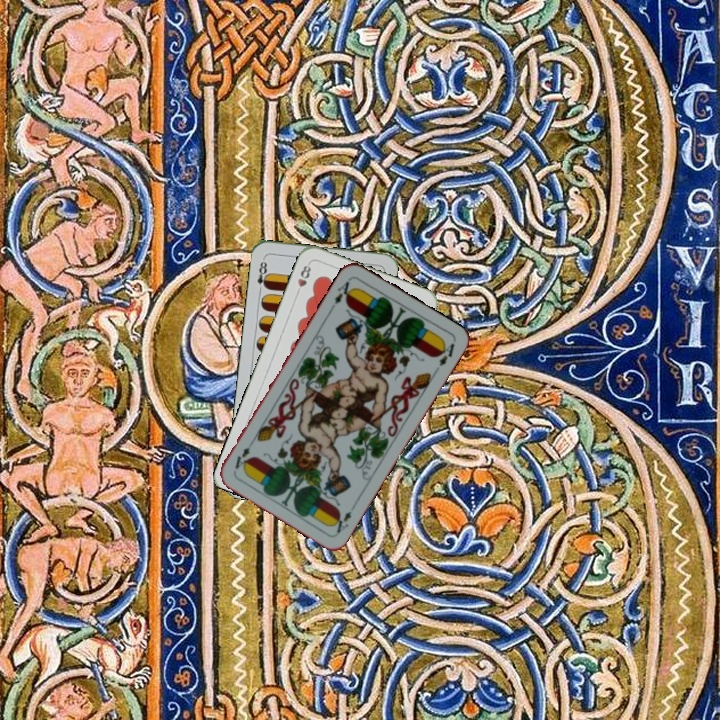E8: (253, 254, 271, 295)
EA: (329, 500, 359, 536), (330, 275, 356, 307)
H8: (292, 259, 313, 298)
